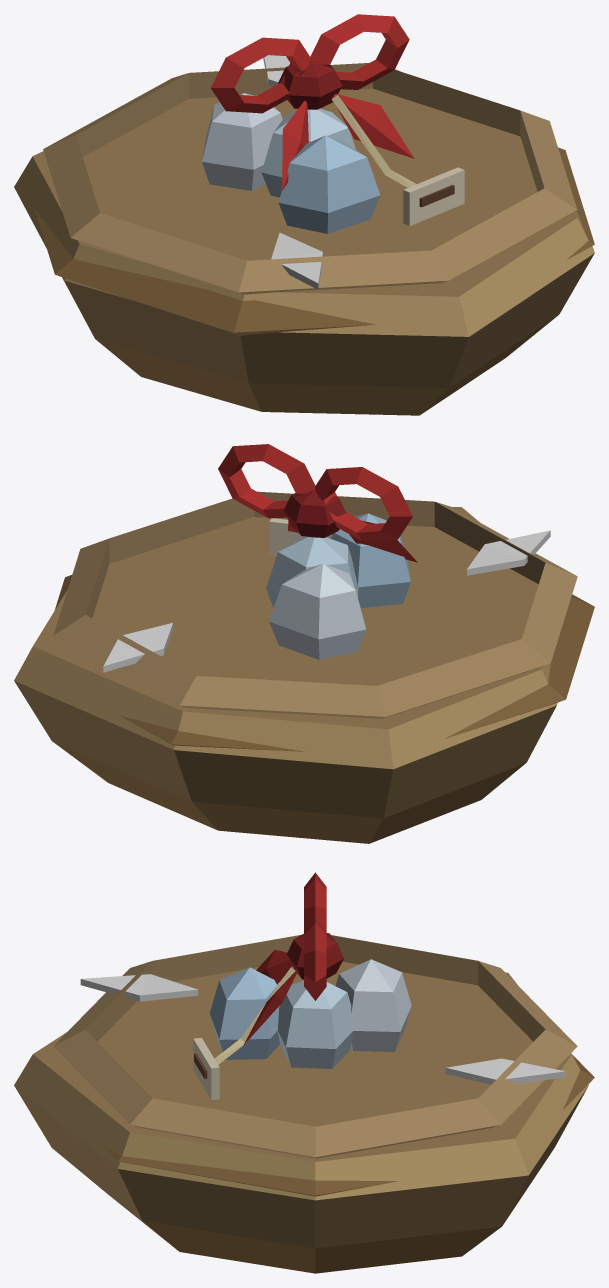
File: quest_bird_nest.glb
3 renders of one model, top to bottom at view 1: azimuth 30°, elevation 25°; view 2: azimuth 150°, elevation 25°; view 3: azimuth 270°, elevation 25°, orthographic. The views are drawn at different scales.
Visible parts, largest first — view 1: quest_bird_nest; view 2: quest_bird_nest; view 3: quest_bird_nest.
Part boxes in pixels (x1=…): quest_bird_nest: x1=14, y1=14, x2=594, y2=415; quest_bird_nest: x1=14, y1=444, x2=594, y2=843; quest_bird_nest: x1=14, y1=872, x2=594, y2=1273.
Bounding box in the file's own units: 0.3849 × 0.2231 × 0.4.
